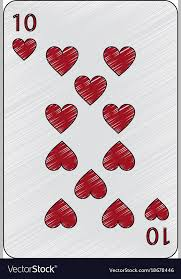ten of hearts: (4, 2, 176, 259)
